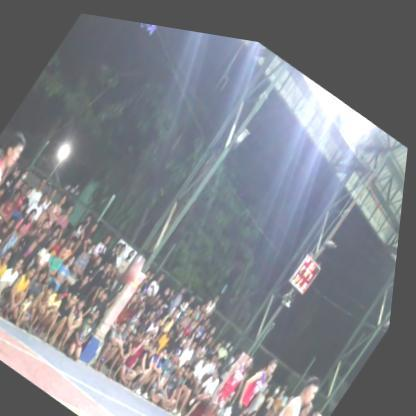rim: (110, 14, 187, 47)
